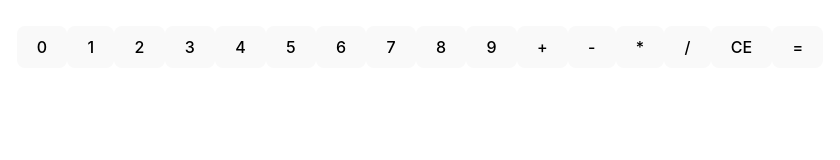
Test: Calculator Acceptance › user can divide two numbers together and see the result
Click the button "4" at (240, 47), box 215,26 -> 266,68
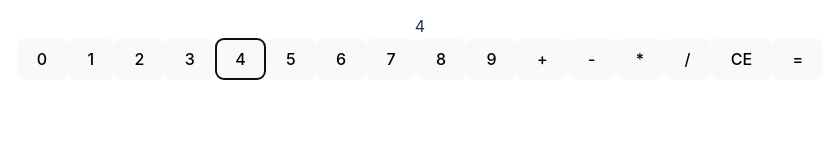
Click the button "0" at (42, 59), box 17,38 -> 67,80
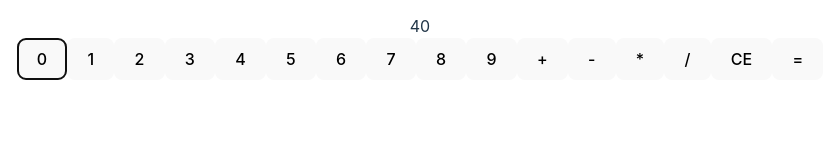
Click the button "/" at (687, 59), box 664,38 -> 711,80
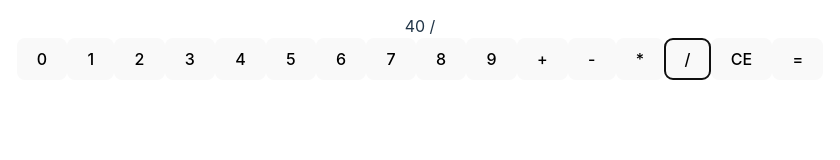
Click the button "2" at (139, 59), box 114,38 -> 164,80
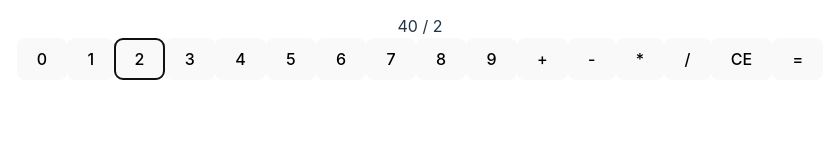
Click the button "=" at (798, 59), box 772,38 -> 823,80
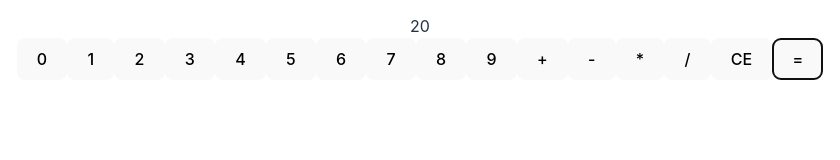
Expected: the field reads "20", 410,16 -> 430,36
